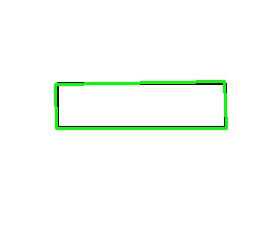line_segment: (55, 81, 228, 130)
